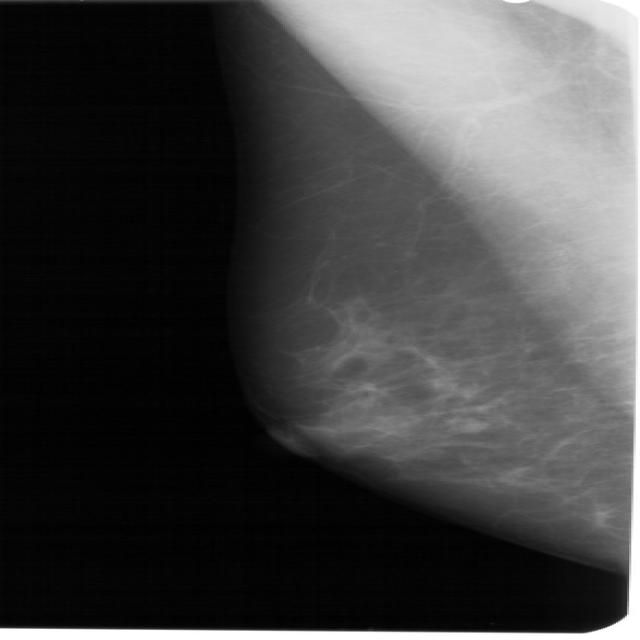tumour: (446, 417, 488, 433)
